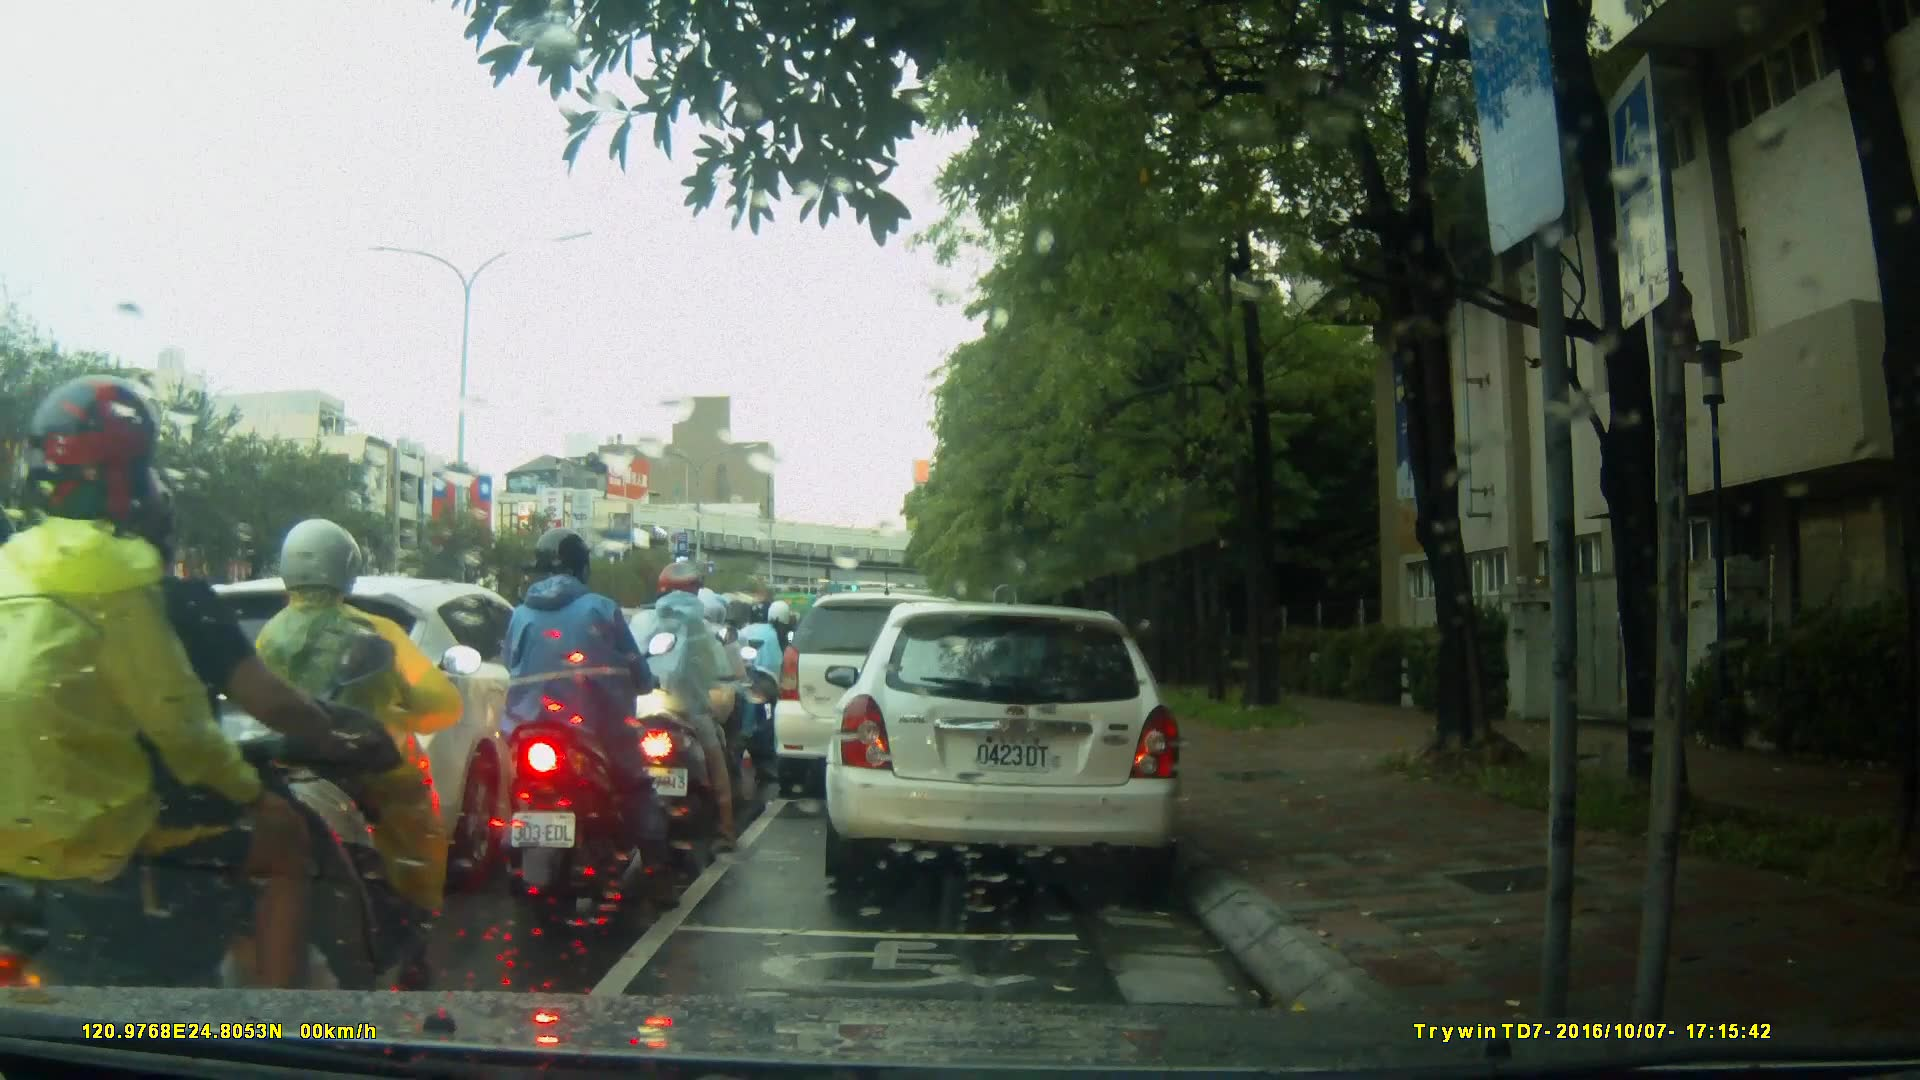rider: (2, 371, 378, 1063), (237, 521, 476, 1001), (498, 528, 682, 912), (611, 560, 736, 845), (653, 584, 761, 823), (734, 597, 795, 754)
vehicle: (158, 575, 600, 864), (822, 604, 1188, 883), (774, 595, 995, 802)
